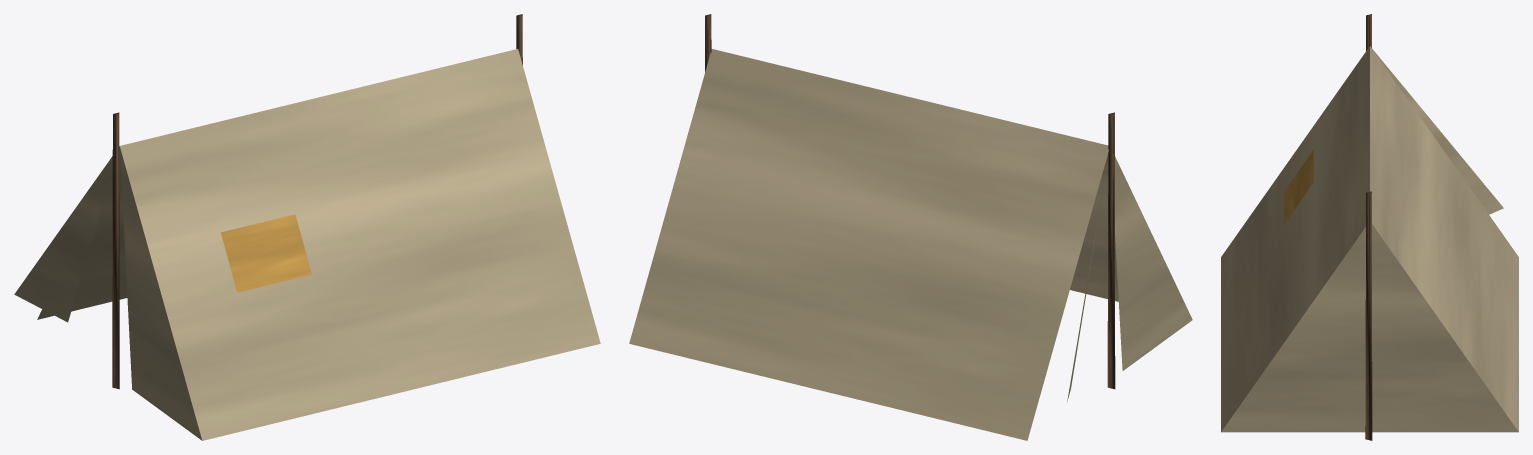
The model's file is Tent_Pilgrim_2_LOD1.gltf.
The picture shows the model from 3 angles, left to right: view 1: azimuth 30°, elevation 25°; view 2: azimuth 150°, elevation 25°; view 3: azimuth 270°, elevation 25°; orthographic projection. The views are drawn at different scales.
Visible parts, largest first — view 1: Tent_Pilgrim_2_LOD1; view 2: Tent_Pilgrim_2_LOD1; view 3: Tent_Pilgrim_2_LOD1.
Part boxes in pixels (bbox=[...]): Tent_Pilgrim_2_LOD1: bbox=[14, 14, 600, 440]; Tent_Pilgrim_2_LOD1: bbox=[629, 14, 1192, 440]; Tent_Pilgrim_2_LOD1: bbox=[1221, 14, 1518, 440].
Size of the model in its own units: 5.25 by 3.15 by 3.45.
Materials: 3 (3 with a texture image).
